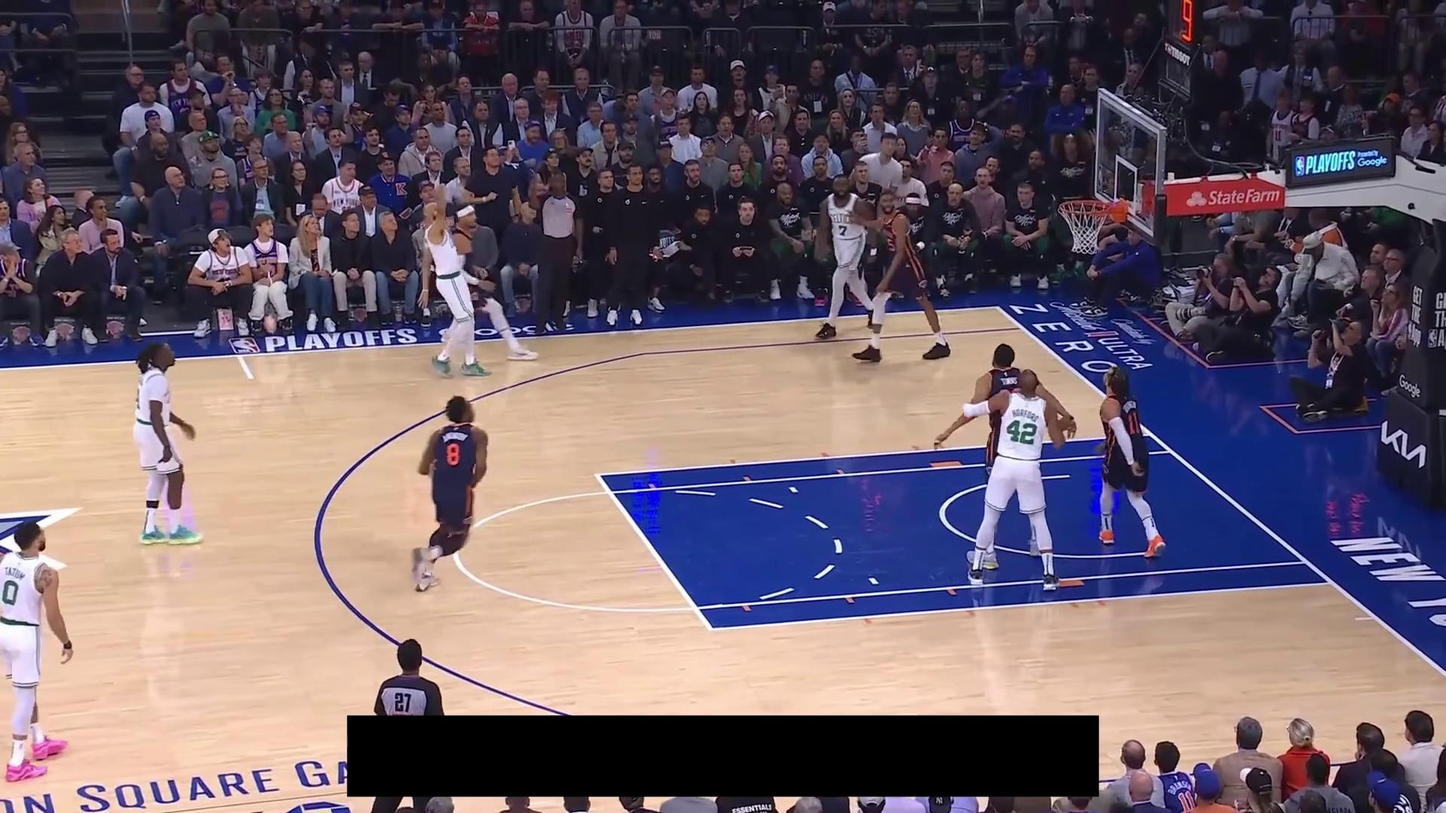number: (1006, 419, 1038, 446), (2, 580, 19, 606), (1127, 410, 1141, 437), (446, 442, 461, 467), (837, 223, 849, 238)
player: (933, 342, 1077, 571), (964, 369, 1065, 591), (0, 518, 75, 783), (850, 187, 951, 364), (408, 394, 490, 594), (131, 339, 206, 548), (417, 182, 493, 378), (1094, 364, 1167, 559), (450, 203, 539, 361), (813, 173, 880, 341)
referee: (372, 638, 447, 813), (526, 169, 584, 336)
rim: (1058, 198, 1112, 215)
